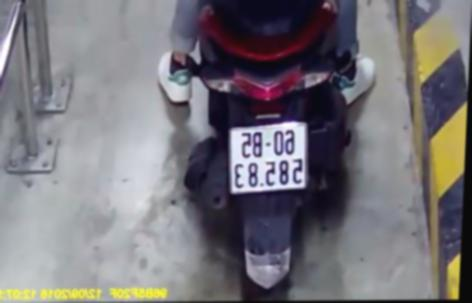License_Plate: (215, 119, 319, 196)
